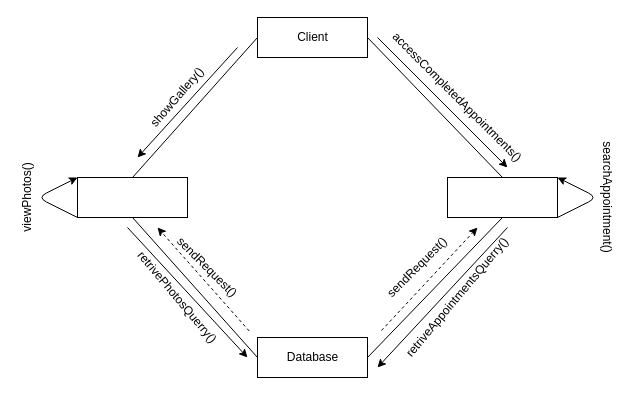
Some shapes in this 634 by 395 pixel diagram are drawn without their labels. Each missing label, with the centre of its shape:
"Appointment" goes at [502,197].
"Gallery" goes at [132,197].
